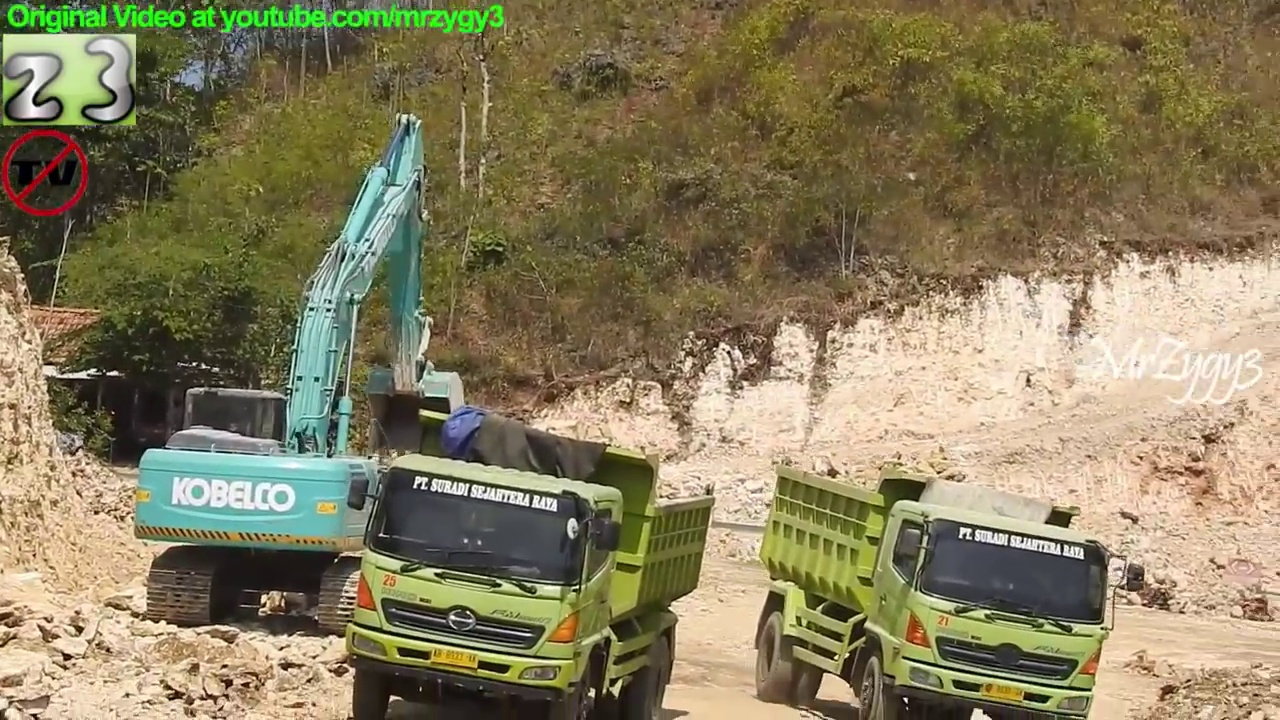excavator: (127, 106, 479, 645)
truck: (338, 403, 724, 720), (750, 454, 1150, 720)
